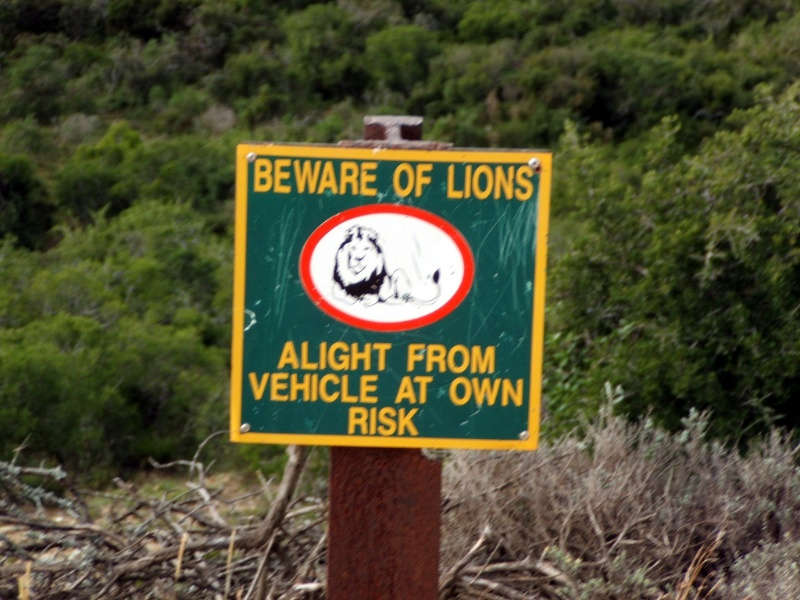animal_ahead: (240, 147, 547, 454)
